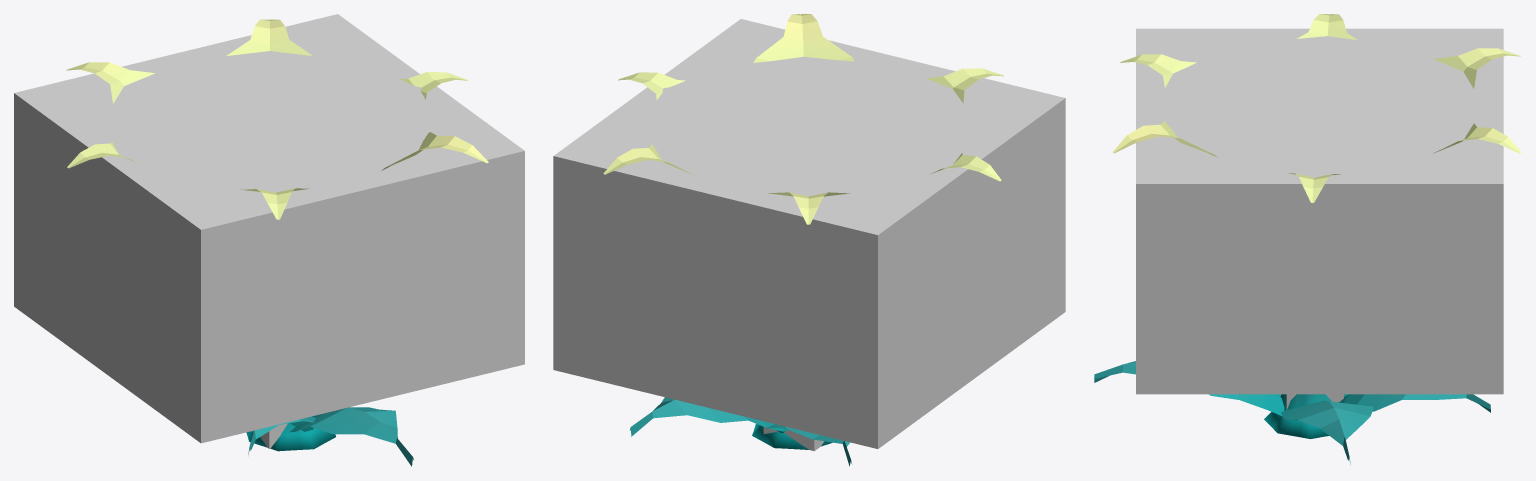
Rendered from Plant_Collector_01.fbx.
3 renders of one model, left to right at view 1: azimuth 30°, elevation 25°; view 2: azimuth 150°, elevation 25°; view 3: azimuth 270°, elevation 25°, orthographic.
Parts seen in each view (by area): view 1: INTERACT_01, Plant_Collector_01; view 2: INTERACT_01, Plant_Collector_01; view 3: INTERACT_01, Plant_Collector_01.
Boxes of the visible parts, x1=… form: INTERACT_01: x1=14, y1=14, x2=524, y2=443; Plant_Collector_01: x1=66, y1=19, x2=488, y2=466; INTERACT_01: x1=553, y1=19, x2=1065, y2=448; Plant_Collector_01: x1=603, y1=14, x2=1004, y2=466; INTERACT_01: x1=1136, y1=28, x2=1503, y2=394; Plant_Collector_01: x1=1094, y1=14, x2=1521, y2=464.
Bounding box in the file's own units: 3.15 × 2.5 × 2.97.
